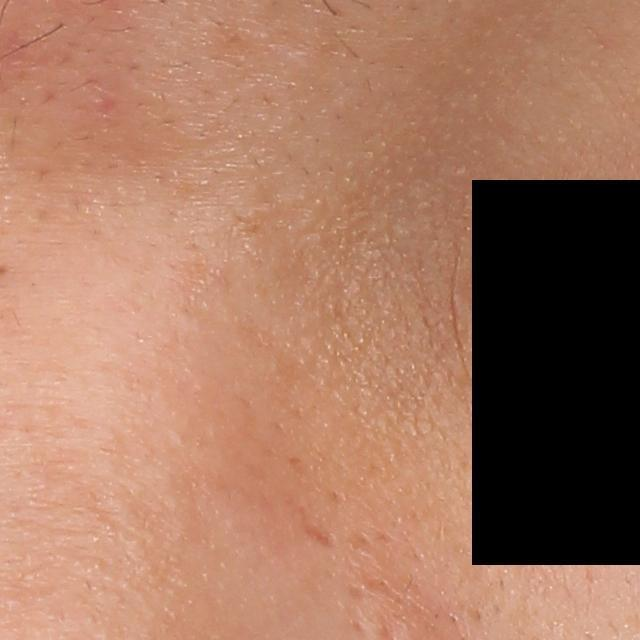atrophic_scar: (304, 522, 339, 548)
